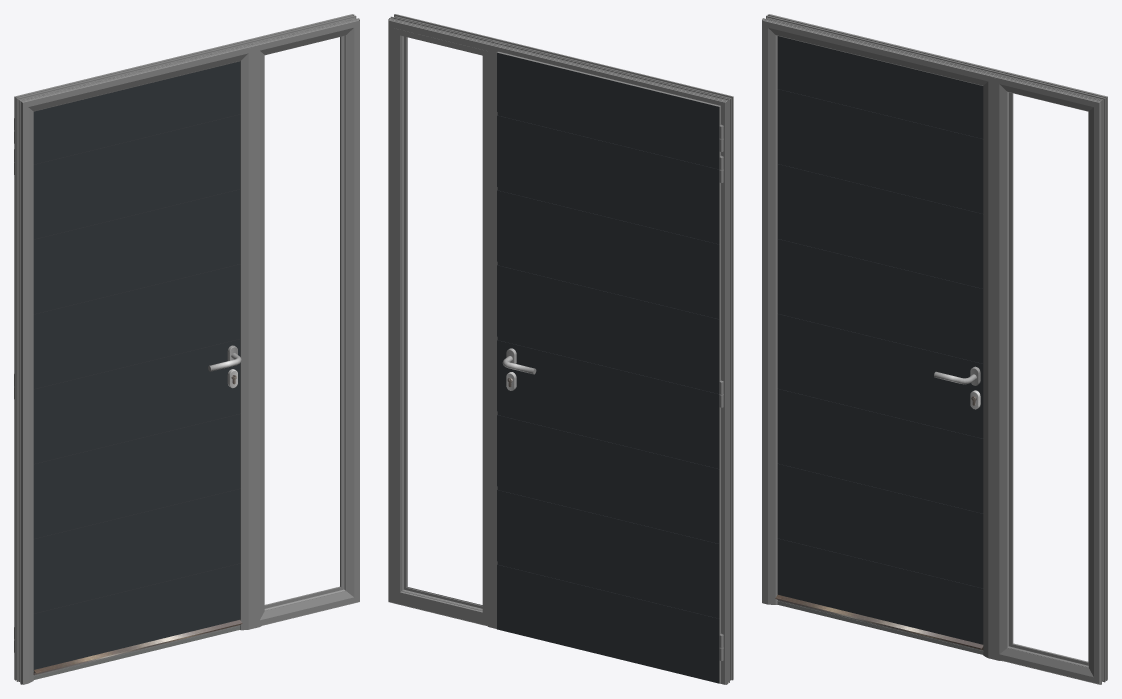
3 views of the same model, side by side, from view 1: azimuth 30°, elevation 25°; view 2: azimuth 150°, elevation 25°; view 3: azimuth 330°, elevation 25° (orthographic).
Parts seen in each view (by area): view 1: bloco_100, Rectangle002, Line004, Object, Object001, Line005, Rectangle005, Rectangle003; view 2: bloco_100, Rectangle002, Rectangle003, Line004, Object001, Rectangle004, Object; view 3: bloco_100, Rectangle002, Line004, Object001, Object, Line005, Rectangle003, Rectangle005.
Boxes of the visible parts, x1=… form: bloco_100: x1=33, y1=61, x2=240, y2=671; Rectangle002: x1=14, y1=14, x2=359, y2=684; Line004: x1=240, y1=46, x2=264, y2=630; Object: x1=33, y1=35, x2=346, y2=680; Object001: x1=264, y1=36, x2=344, y2=608; Line005: x1=33, y1=620, x2=242, y2=674; Rectangle005: x1=33, y1=625, x2=240, y2=679; Rectangle003: x1=264, y1=37, x2=340, y2=605; bloco_100: x1=497, y1=52, x2=719, y2=683; Rectangle002: x1=388, y1=14, x2=733, y2=684; Rectangle003: x1=394, y1=28, x2=487, y2=619; Line004: x1=488, y1=41, x2=504, y2=628; Object001: x1=401, y1=36, x2=482, y2=610; Rectangle004: x1=496, y1=51, x2=720, y2=683; Object: x1=404, y1=36, x2=482, y2=608; bloco_100: x1=777, y1=36, x2=983, y2=644; Rectangle002: x1=762, y1=14, x2=1107, y2=684; Line004: x1=983, y1=77, x2=1007, y2=661; Object001: x1=1007, y1=92, x2=1088, y2=665; Object: x1=776, y1=35, x2=1088, y2=667; Line005: x1=775, y1=595, x2=983, y2=649; Rectangle003: x1=1012, y1=93, x2=1087, y2=662; Rectangle005: x1=777, y1=600, x2=983, y2=654.
Size of the model in its own units: 1307 by 2150 by 192.
Materials: 6 (4 with a texture image).
